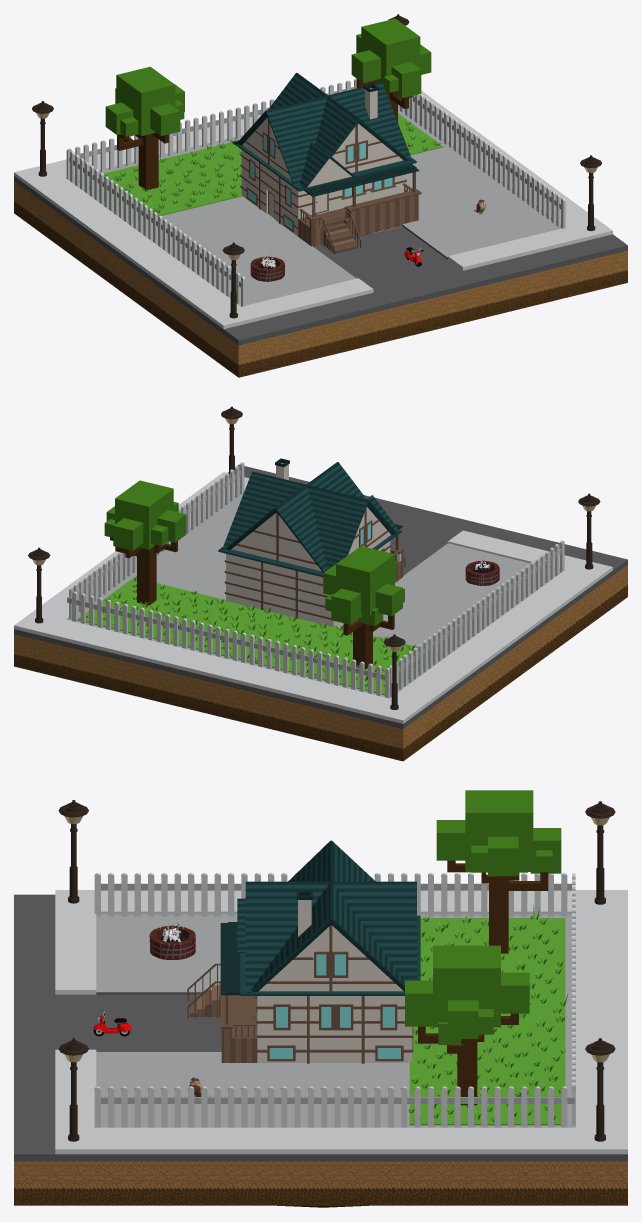
3 renders of one model, top to bottom at view 1: azimuth 30°, elevation 25°; view 2: azimuth 150°, elevation 25°; view 3: azimuth 270°, elevation 25°, orthographic. The views are drawn at different scales.
Visible parts, largest first — view 1: Cube.004, Cube.793, OBJRANDOM_CAMPFIRE; view 2: Cube.004, Cube.793, OBJRANDOM_CAMPFIRE; view 3: Cube.004, Cube.793, OBJRANDOM_CAMPFIRE.
Boxes of the visible parts, x1,y1,x2,y2 form: Cube.004: (14,14,627,377); Cube.793: (233,73,421,254); OBJRANDOM_CAMPFIRE: (250,255,284,281); Cube.004: (14,406,627,761); Cube.793: (218,458,405,626); OBJRANDOM_CAMPFIRE: (465,556,499,585); Cube.004: (14,790,627,1205); Cube.793: (187,840,420,1063); OBJRANDOM_CAMPFIRE: (149,923,195,959).
Bounding box in the file's own units: 4000 × 1667 × 4000.
Materials: 32 (4 with a texture image).
